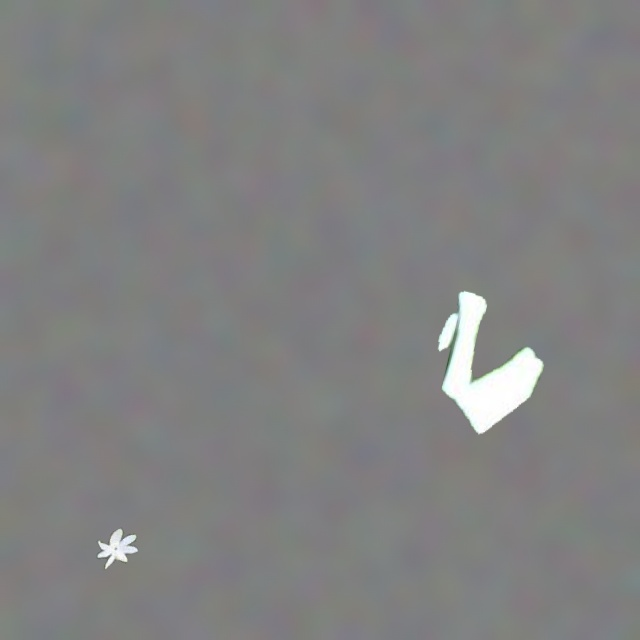jasmine: (97, 528, 137, 568)
passion flower: (438, 291, 543, 433)
